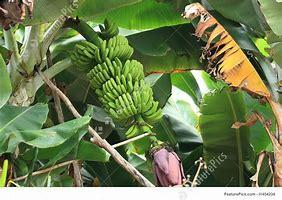banana: (75, 30, 156, 127)
